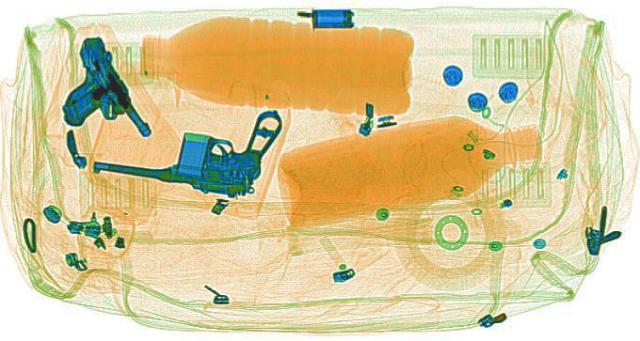Gun: (82, 94, 286, 195), (24, 34, 154, 142)
